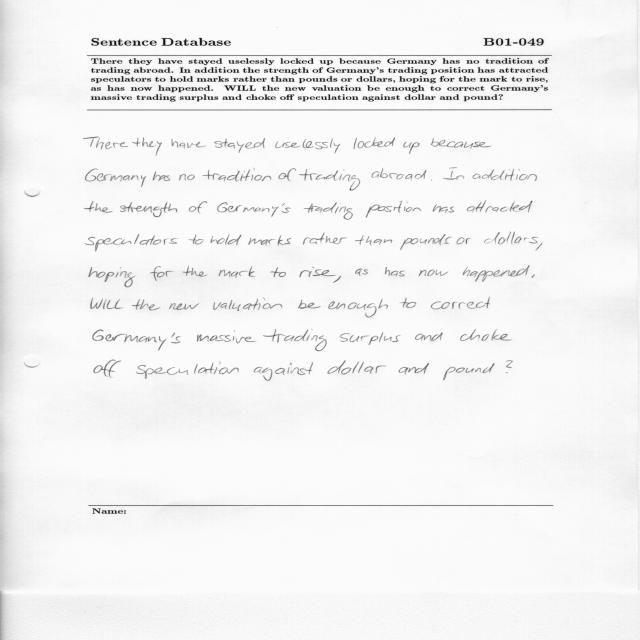word: (136, 361, 239, 379), (93, 330, 181, 351), (86, 234, 178, 251), (263, 330, 327, 351), (299, 169, 360, 191), (86, 169, 147, 188), (328, 299, 388, 318), (253, 362, 313, 381), (463, 265, 530, 282), (217, 202, 291, 217), (275, 139, 341, 154), (214, 297, 283, 311), (366, 201, 421, 218), (89, 267, 135, 287), (202, 168, 271, 181), (327, 360, 386, 375), (443, 363, 495, 380), (304, 202, 353, 220), (120, 202, 177, 217), (473, 169, 538, 182), (400, 234, 452, 250), (467, 201, 533, 213), (197, 331, 257, 344), (340, 332, 400, 345), (214, 138, 265, 153), (431, 297, 490, 309), (299, 267, 341, 283), (431, 138, 492, 149), (372, 168, 427, 180), (484, 232, 538, 244), (84, 137, 129, 150), (303, 232, 347, 245), (132, 137, 162, 156), (460, 330, 511, 341), (353, 137, 395, 149), (94, 360, 121, 378), (248, 235, 291, 246), (219, 266, 255, 278), (211, 234, 242, 246), (355, 236, 392, 246), (150, 266, 174, 281), (91, 298, 123, 309), (171, 139, 206, 149), (85, 201, 113, 213), (399, 363, 429, 374), (132, 300, 160, 311), (183, 266, 208, 277), (443, 168, 464, 180), (415, 332, 443, 341), (278, 168, 296, 181), (189, 201, 207, 214), (298, 299, 321, 309), (169, 303, 199, 310), (403, 142, 420, 154), (433, 204, 454, 213), (385, 267, 405, 276), (419, 270, 448, 276), (153, 171, 170, 181), (400, 298, 416, 308), (189, 235, 204, 245), (271, 267, 286, 277), (179, 174, 195, 181), (457, 238, 472, 245), (506, 360, 513, 373), (357, 269, 368, 276), (536, 243, 543, 251), (355, 268, 362, 274), (531, 274, 535, 278), (431, 180, 432, 181)
